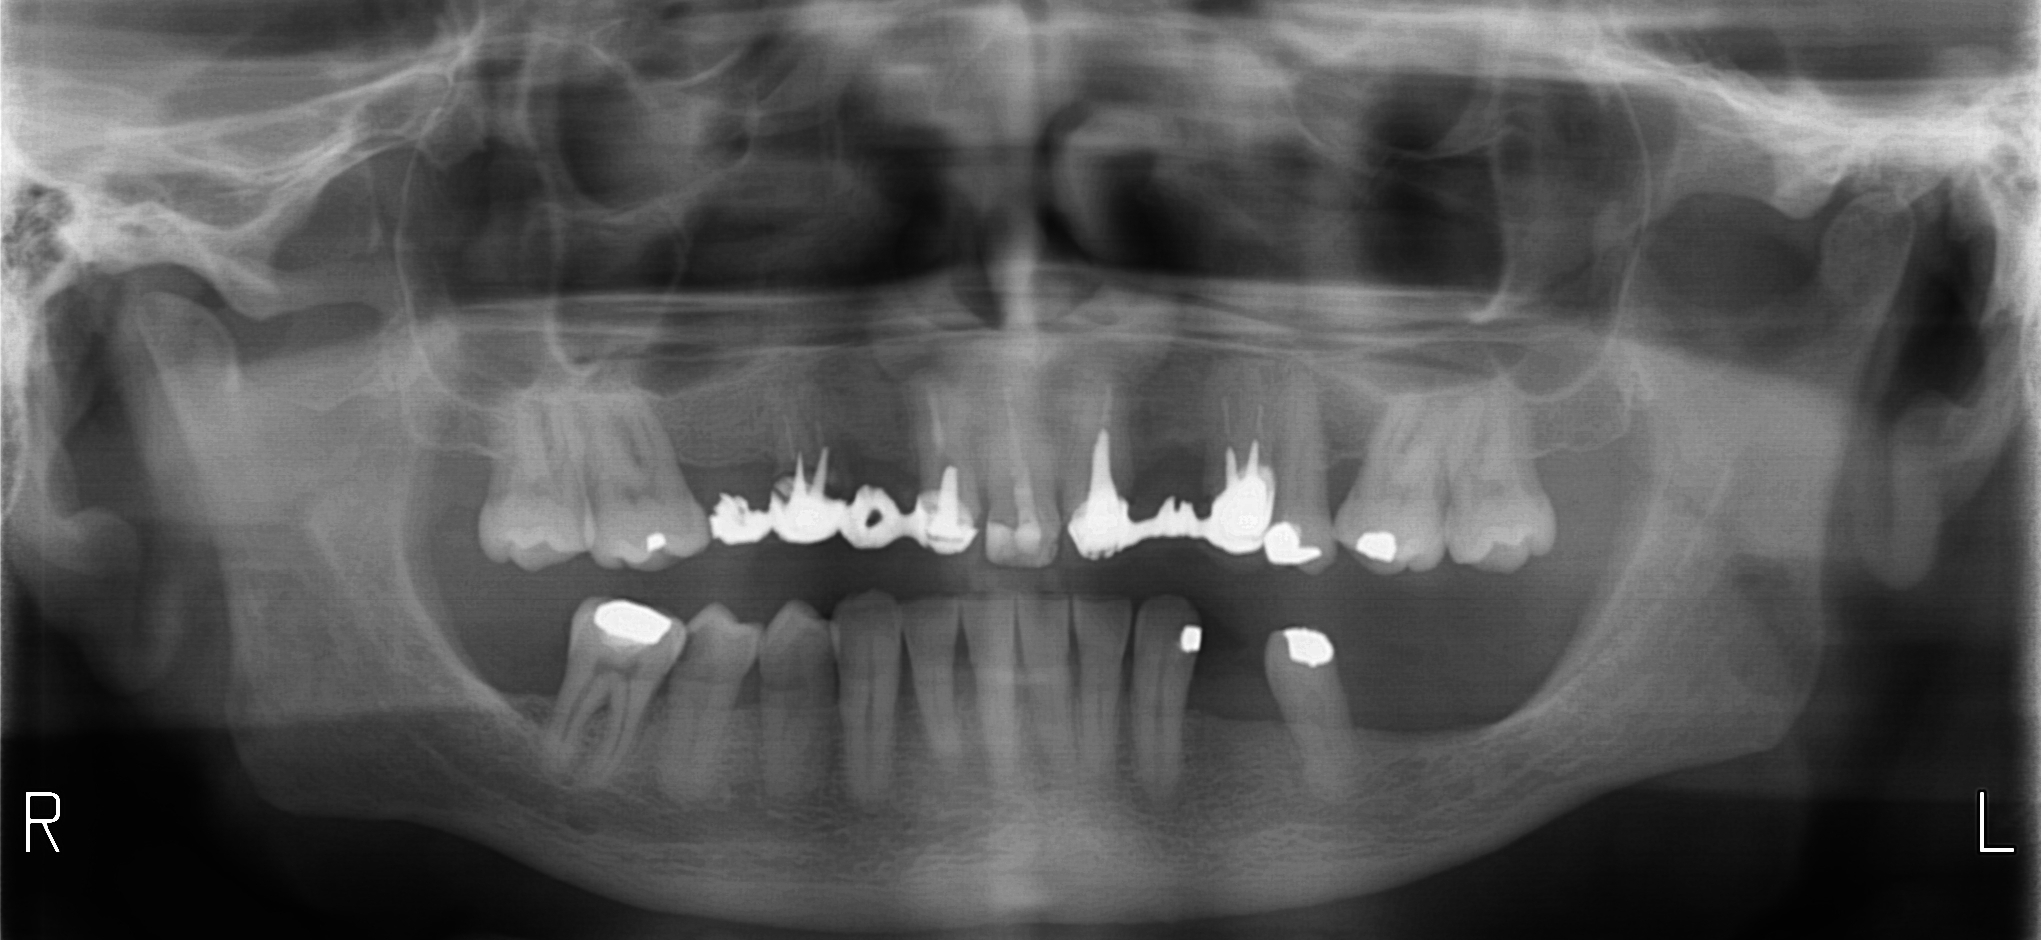cavity: (677, 631, 691, 659), (985, 499, 988, 512)
